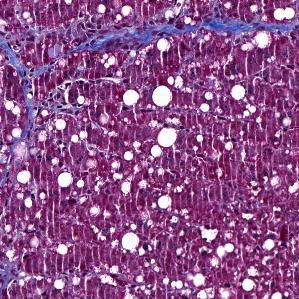fibrosis: (87, 13, 179, 53)
